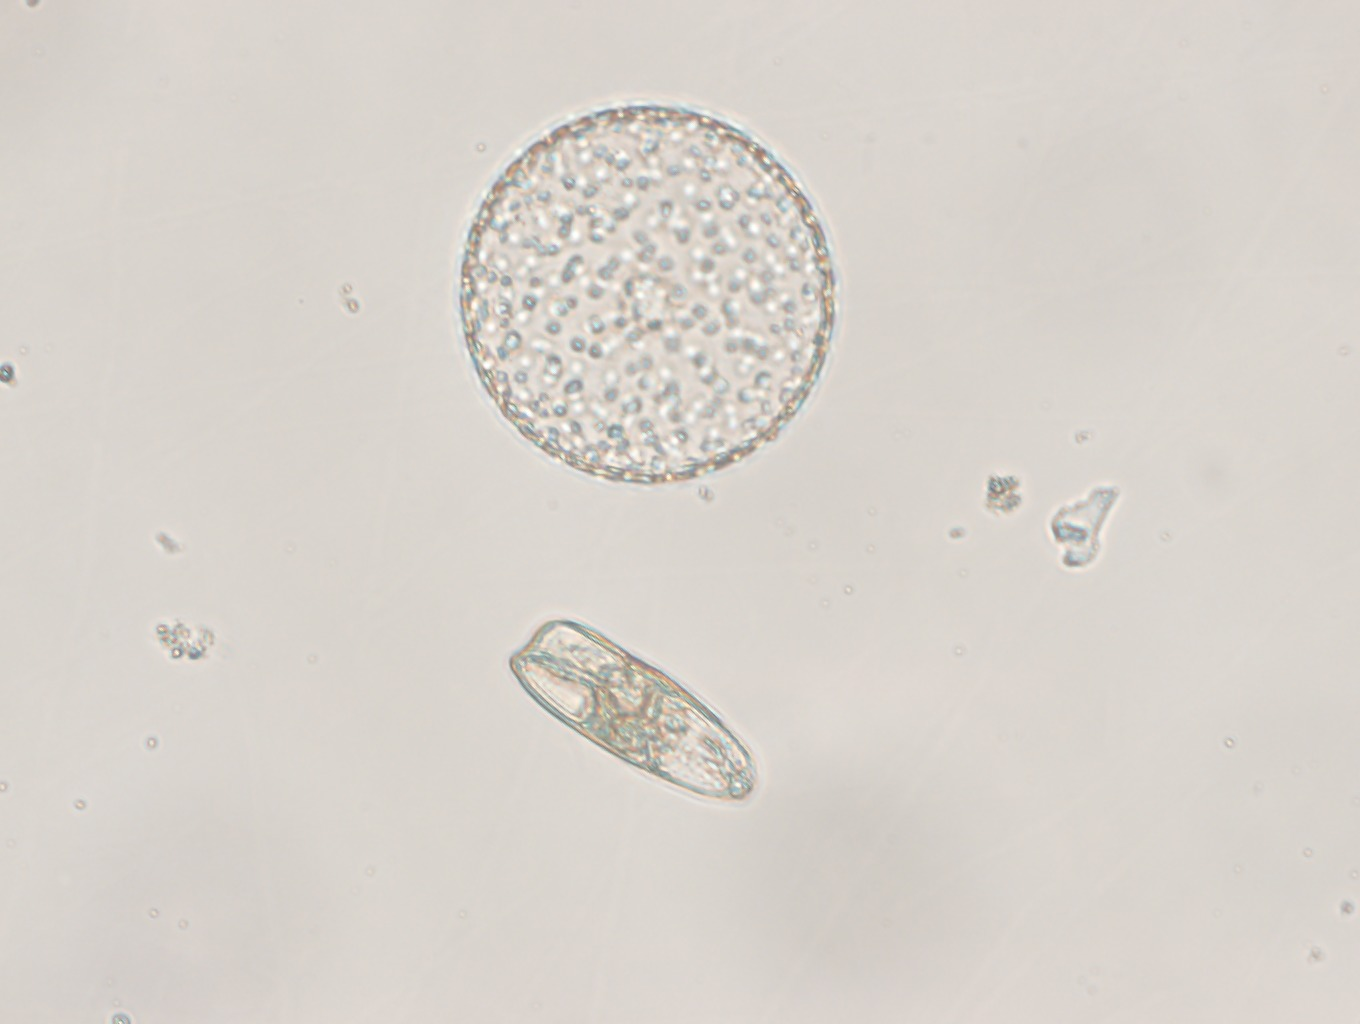coscinodiscus: (456, 99, 844, 490)
